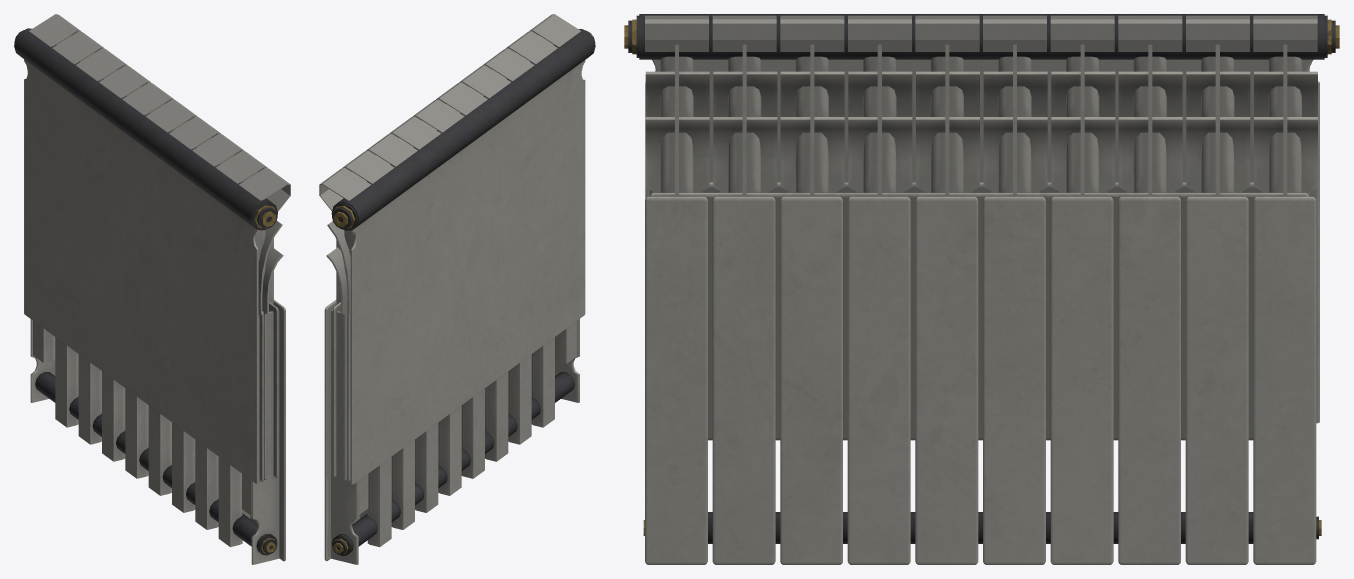
File: heat_radiator__game_ready_-_pbr.glb
The picture shows the model from 3 angles, left to right: view 1: azimuth 30°, elevation 25°; view 2: azimuth 150°, elevation 25°; view 3: azimuth 270°, elevation 25°; orthographic projection. The views are drawn at different scales.
Parts seen in each view (by area): view 1: pCylinder14; view 2: pCylinder14; view 3: pCylinder14.
Boxes of the visible parts, x1=… form: pCylinder14: x1=14, y1=14, x2=290, y2=564; pCylinder14: x1=319, y1=14, x2=595, y2=564; pCylinder14: x1=624, y1=14, x2=1339, y2=564.
Size of the model in its own units: 0.0988 by 0.8444 by 1.
1 material, 1 textured.
